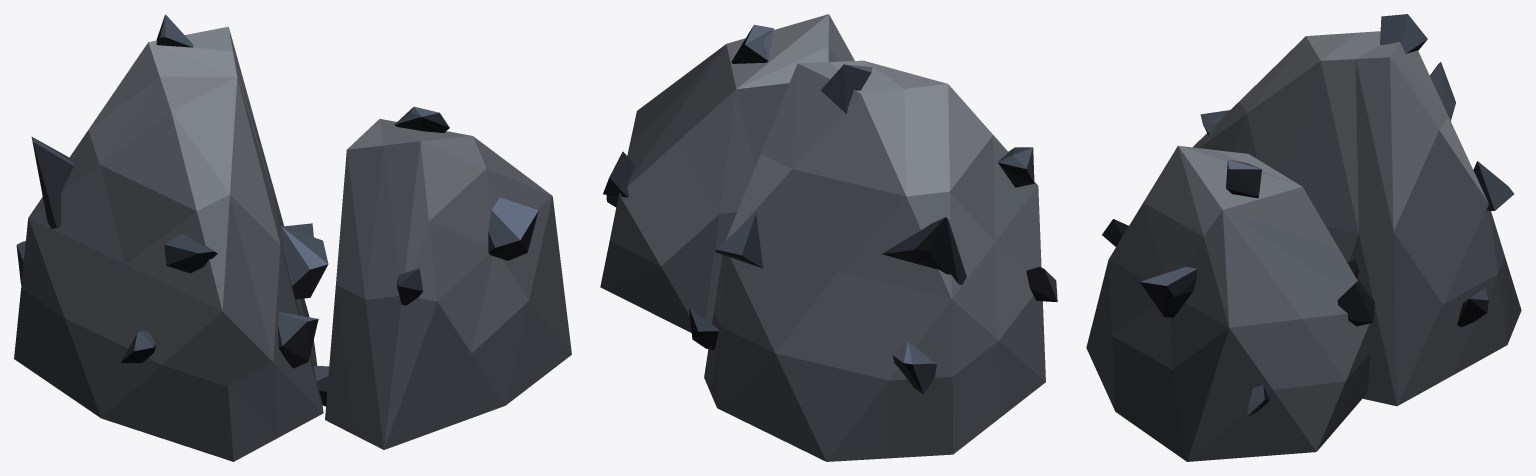
The model's file is Rocks_Ore_Coal3.glb.
The picture shows the model from 3 angles, left to right: view 1: azimuth 30°, elevation 25°; view 2: azimuth 150°, elevation 25°; view 3: azimuth 270°, elevation 25°; orthographic projection. The views are drawn at different scales.
Visible parts, largest first — view 1: Rocks_Ore_Coal3; view 2: Rocks_Ore_Coal3; view 3: Rocks_Ore_Coal3.
Boxes of the visible parts, x1,y1,x2,y2 form: Rocks_Ore_Coal3: (14, 14, 571, 461); Rocks_Ore_Coal3: (600, 14, 1057, 461); Rocks_Ore_Coal3: (1086, 14, 1521, 461).
Size of the model in its own units: 1.4 by 1.1 by 1.25.
